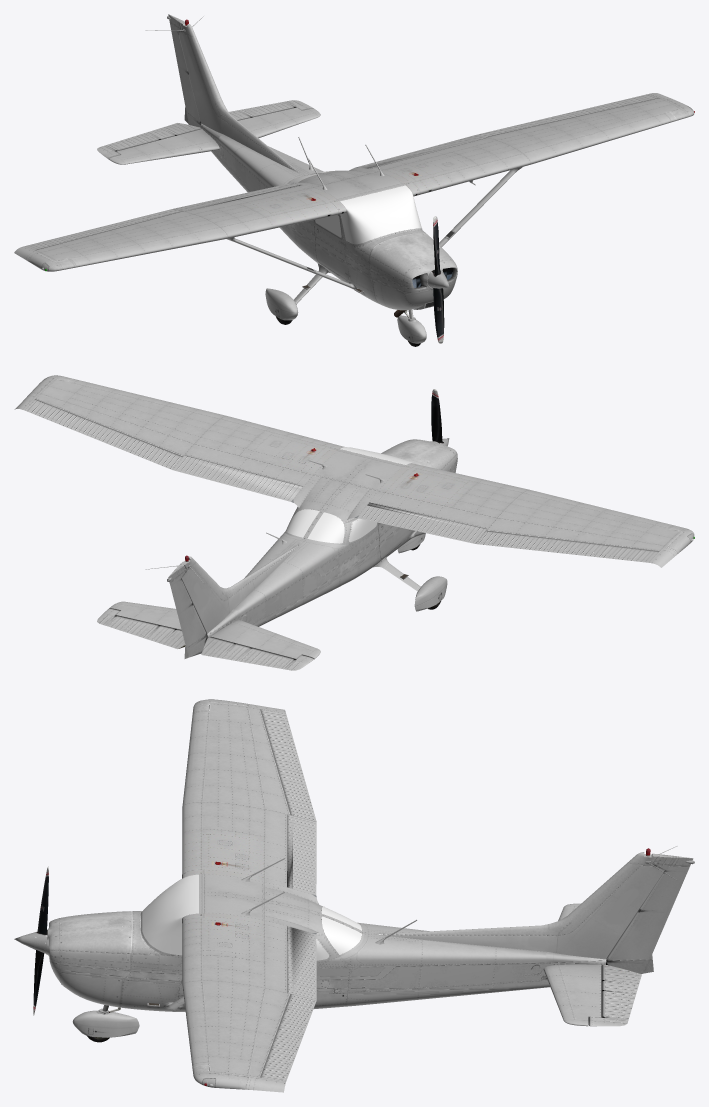
Rendered from Cessna172.fbx.
3 renders of one model, top to bottom at view 1: azimuth 30°, elevation 25°; view 2: azimuth 150°, elevation 25°; view 3: azimuth 270°, elevation 25°, orthographic. The views are drawn at different scales.
Visible parts, largest first — view 1: Cessna_Exterior, Cessna_Exterior_Body_MAT_0.002, Cessna_Exterior_Body_MAT_0.004, Cessna_Exterior_Body_MAT_0.007, Cessna_Exterior_Body_MAT_0.018, Cessna_Exterior_Body_MAT_0.011, Cessna_Exterior_Body_MAT_0.010, Cessna_Exterior_Body_MAT_0.008, Cessna_Exterior_Body_MAT_0.012, Cessna_Exterior_Body_MAT_0.014, Cessna_Exterior_Body_MAT_0.015, Cessna_Exterior_Body_MAT_0.001 (+7 smaller); view 2: Cessna_Exterior_Body_MAT_0.002, Cessna_Exterior_Body_MAT_0.004, Cessna_Exterior, Cessna_Exterior_Body_MAT_0.018, Cessna_Exterior_Body_MAT_0.007, Cessna_Exterior_Body_MAT_0.014, Cessna_Exterior_Body_MAT_0.015, Cessna_Exterior_Body_MAT_0.016, Cessna_Exterior_Body_MAT_0.017, Cessna_Exterior_Body_MAT_0.011, Cessna_Exterior_Body_MAT_0.008, Cessna_Exterior_Body_MAT_0.012 (+4 smaller); view 3: Cessna_Exterior, Cessna_Exterior_Body_MAT_0.004, Cessna_Exterior_Body_MAT_0.002, Cessna_Exterior_Body_MAT_0.018, Cessna_Exterior_Body_MAT_0.007, Cessna_Exterior_Body_MAT_0.008, Cessna_Exterior_Body_MAT_0.010, Cessna_Exterior_Body_MAT_0.015, Cessna_Exterior_Body_MAT_0.014, Cessna_Exterior_Body_MAT_0.017, Cessna_Exterior_Body_MAT_0.013, Cessna_Exterior_Body_MAT_0.016 (+2 smaller).
Part boxes in pixels (box(x1,y1,x2,y2)): Cessna_Exterior: box(281, 167, 457, 317); Cessna_Exterior_Body_MAT_0.002: box(370, 93, 694, 196); Cessna_Exterior_Body_MAT_0.004: box(14, 185, 346, 271); Cessna_Exterior_Body_MAT_0.007: box(145, 16, 298, 172); Cessna_Exterior_Body_MAT_0.018: box(200, 123, 323, 229); Cessna_Exterior_Body_MAT_0.011: box(108, 129, 219, 164); Cessna_Exterior_Body_MAT_0.010: box(238, 107, 320, 138); Cessna_Exterior_Body_MAT_0.008: box(167, 14, 201, 127); Cessna_Exterior_Body_MAT_0.012: box(97, 123, 201, 158); Cessna_Exterior_Body_MAT_0.014: box(476, 94, 658, 137); Cessna_Exterior_Body_MAT_0.015: box(25, 209, 182, 250); Cessna_Exterior_Body_MAT_0.001: box(433, 216, 444, 343); Cessna_Exterior_Body_MAT_0.002: box(14, 375, 344, 485); Cessna_Exterior_Body_MAT_0.004: box(369, 463, 694, 567); Cessna_Exterior: box(280, 439, 457, 589); Cessna_Exterior_Body_MAT_0.018: box(206, 535, 335, 639); Cessna_Exterior_Body_MAT_0.007: box(145, 544, 298, 633); Cessna_Exterior_Body_MAT_0.014: box(24, 399, 182, 469); Cessna_Exterior_Body_MAT_0.015: box(475, 530, 659, 562); Cessna_Exterior_Body_MAT_0.016: box(173, 455, 302, 501); Cessna_Exterior_Body_MAT_0.017: box(357, 502, 486, 543); Cessna_Exterior_Body_MAT_0.011: box(210, 620, 320, 659); Cessna_Exterior_Body_MAT_0.008: box(167, 564, 206, 658); Cessna_Exterior_Body_MAT_0.012: box(201, 637, 313, 670); Cessna_Exterior: box(46, 874, 364, 1011); Cessna_Exterior_Body_MAT_0.004: box(182, 699, 290, 886); Cessna_Exterior_Body_MAT_0.002: box(182, 913, 290, 1092); Cessna_Exterior_Body_MAT_0.018: box(355, 923, 606, 1005); Cessna_Exterior_Body_MAT_0.007: box(378, 846, 677, 959); Cessna_Exterior_Body_MAT_0.008: box(606, 854, 694, 973); Cessna_Exterior_Body_MAT_0.010: box(543, 964, 601, 1026); Cessna_Exterior_Body_MAT_0.015: box(260, 709, 316, 821); Cessna_Exterior_Body_MAT_0.014: box(260, 994, 316, 1081); Cessna_Exterior_Body_MAT_0.017: box(287, 814, 316, 894); Cessna_Exterior_Body_MAT_0.013: box(588, 965, 641, 1026); Cessna_Exterior_Body_MAT_0.016: box(287, 926, 316, 1000).
Size of the model in its own units: 1260 by 296 by 944.
16 materials, 10 textured.
